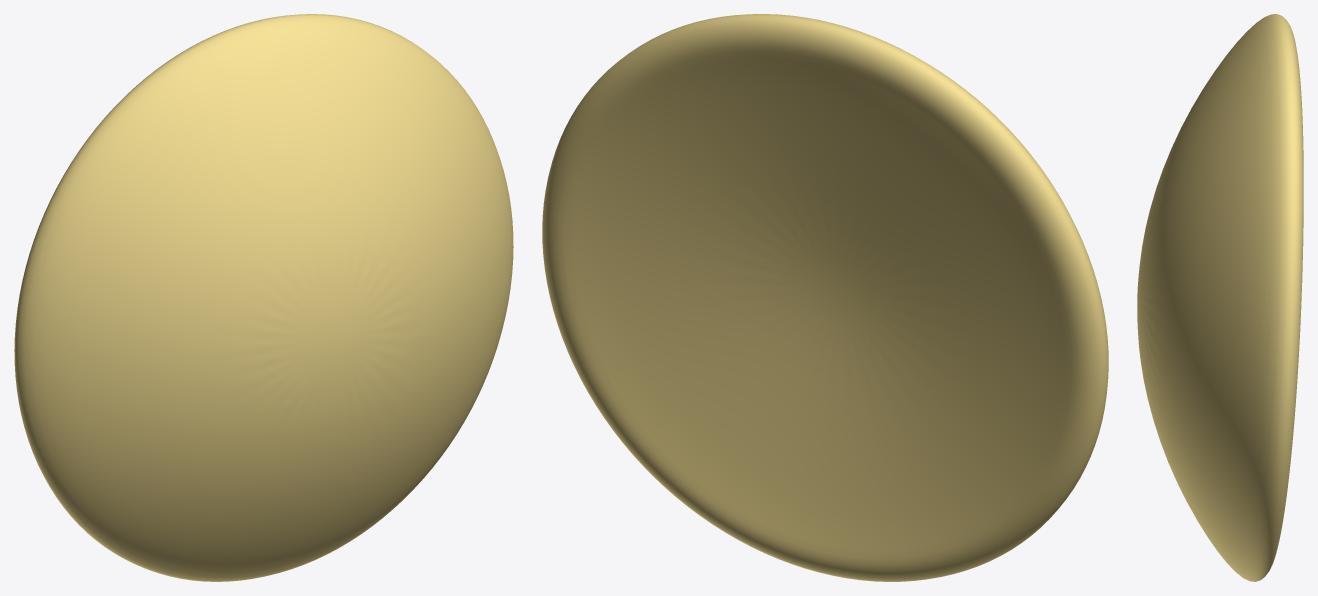
3 views of the same model, side by side, from view 1: azimuth 30°, elevation 25°; view 2: azimuth 150°, elevation 25°; view 3: azimuth 270°, elevation 25° (orthographic). The views are drawn at different scales.
Parts seen in each view (by area): view 1: ZA_d0da26b0558b5cd9; view 2: ZA_d0da26b0558b5cd9; view 3: ZA_d0da26b0558b5cd9.
Part boxes in pixels (<box>): ZA_d0da26b0558b5cd9: <box>14,14,513,581</box>; ZA_d0da26b0558b5cd9: <box>542,14,1108,581</box>; ZA_d0da26b0558b5cd9: <box>1137,14,1303,581</box>.
Size of the model in its own units: 0.0128 by 0.0128 by 0.00376.
